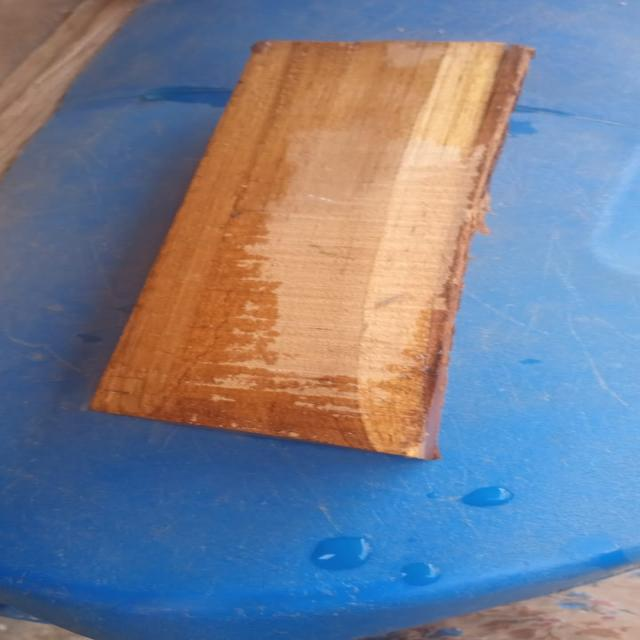litter: (113, 7, 518, 469)
